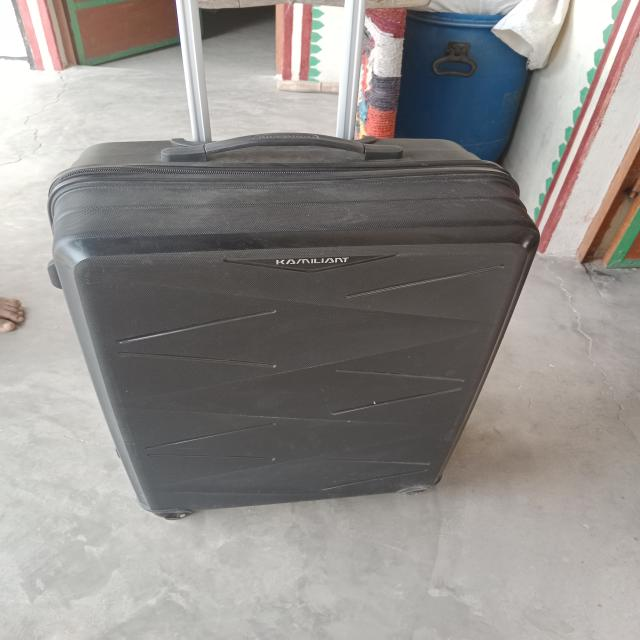suitcaserotation: (42, 0, 542, 522)
